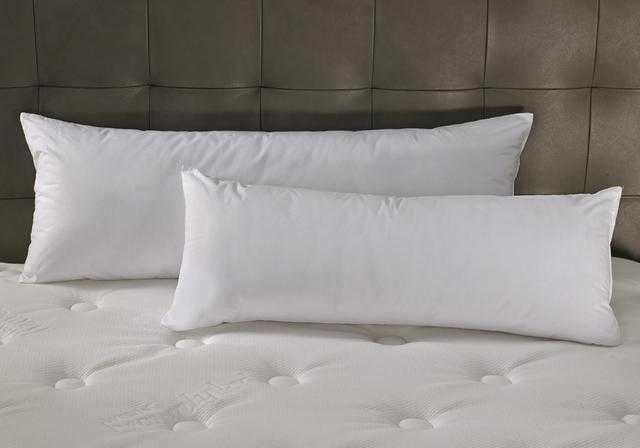pillow: (17, 108, 536, 284), (160, 165, 624, 346)
